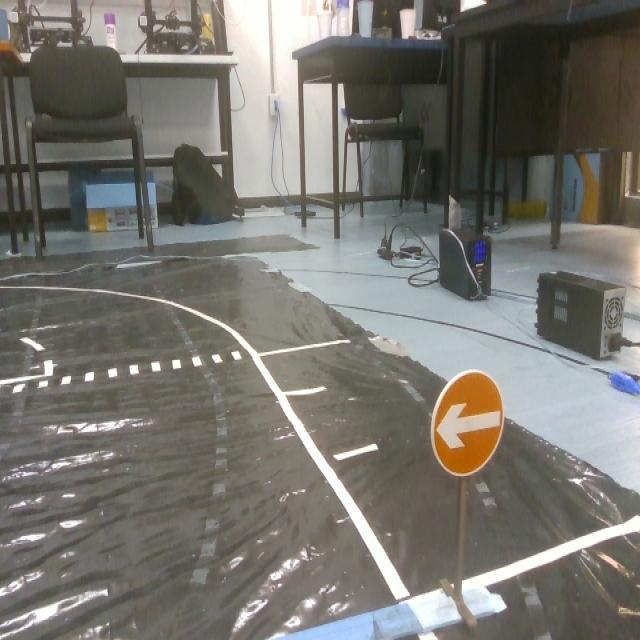forward: (432, 372, 507, 487)
